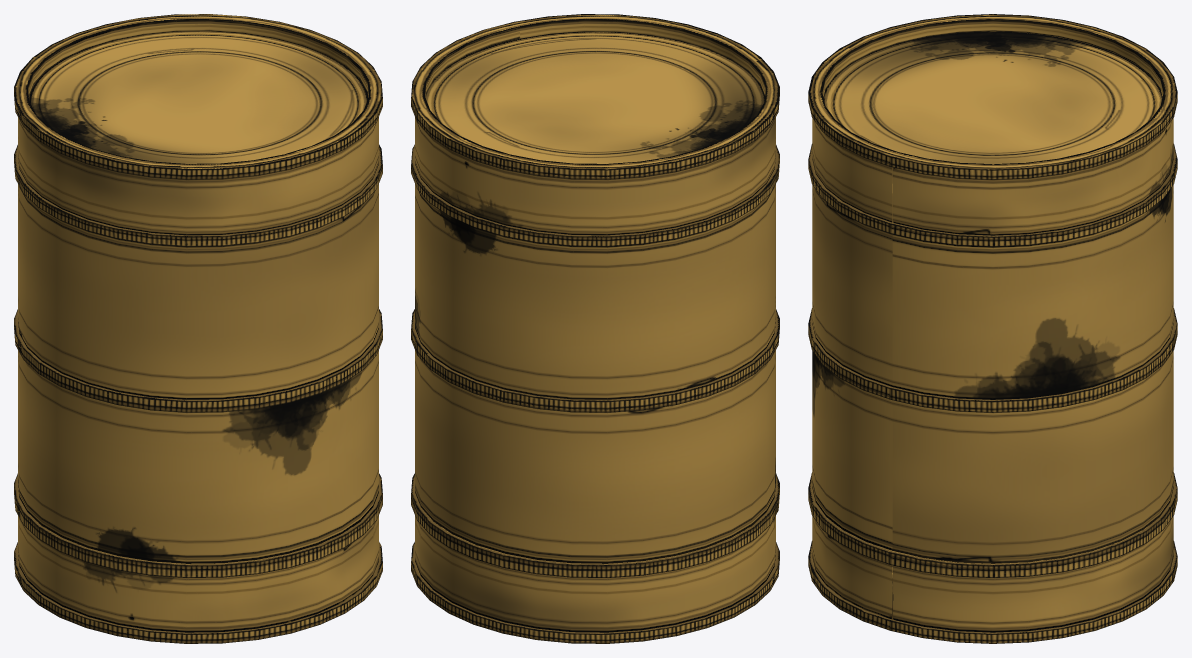
The model's file is tank.fbx.
3 renders of one model, left to right at view 1: azimuth 30°, elevation 25°; view 2: azimuth 150°, elevation 25°; view 3: azimuth 270°, elevation 25°, orthographic.
Visible parts, largest first — view 1: Cylinder; view 2: Cylinder; view 3: Cylinder.
Part boxes in pixels (<box>): Cylinder: <box>14,14,382,643</box>; Cylinder: <box>411,14,779,643</box>; Cylinder: <box>808,14,1177,643</box>.
Bounding box in the file's own units: 131 × 186 × 131.
